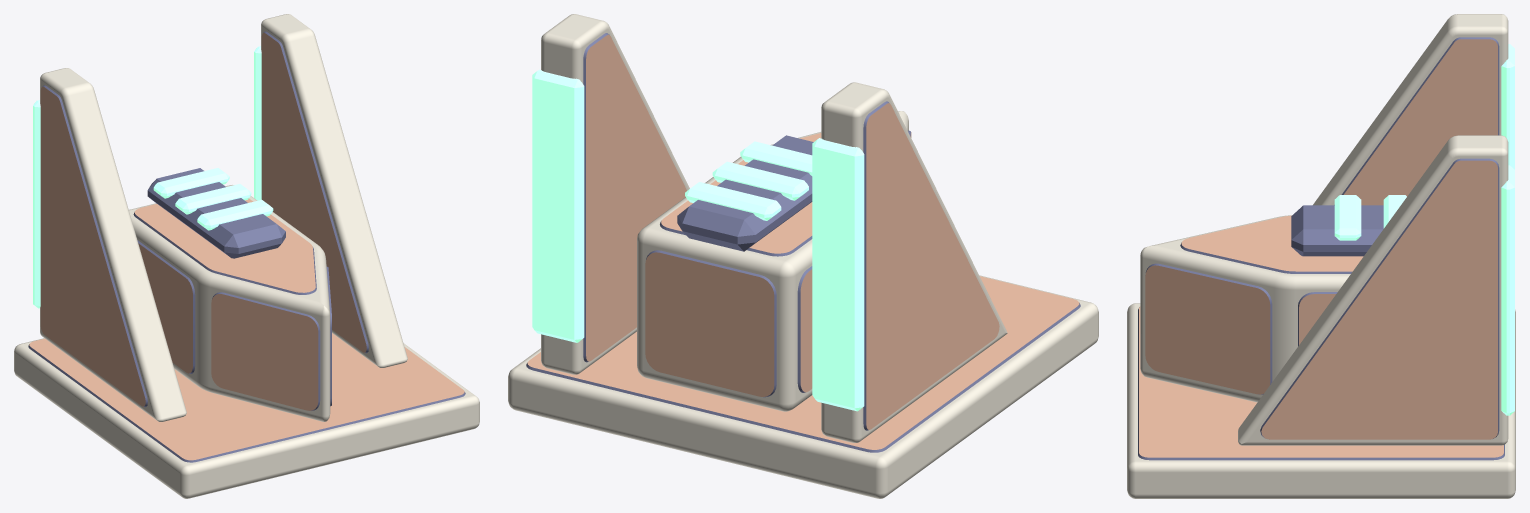
Rendered from R4X_MobilityBooster.fbx.
The picture shows the model from 3 angles, left to right: view 1: azimuth 30°, elevation 25°; view 2: azimuth 150°, elevation 25°; view 3: azimuth 270°, elevation 25°; orthographic projection. The views are drawn at different scales.
Visible parts, largest first — view 1: R4X_MobilityBooster_Body; view 2: R4X_MobilityBooster_Body; view 3: R4X_MobilityBooster_Body.
Boxes of the visible parts, x1=… form: R4X_MobilityBooster_Body: x1=14, y1=14, x2=479, y2=498; R4X_MobilityBooster_Body: x1=508, y1=14, x2=1098, y2=498; R4X_MobilityBooster_Body: x1=1127, y1=14, x2=1515, y2=498.
Bounding box in the file's own units: 0.514 × 0.497 × 0.514.
